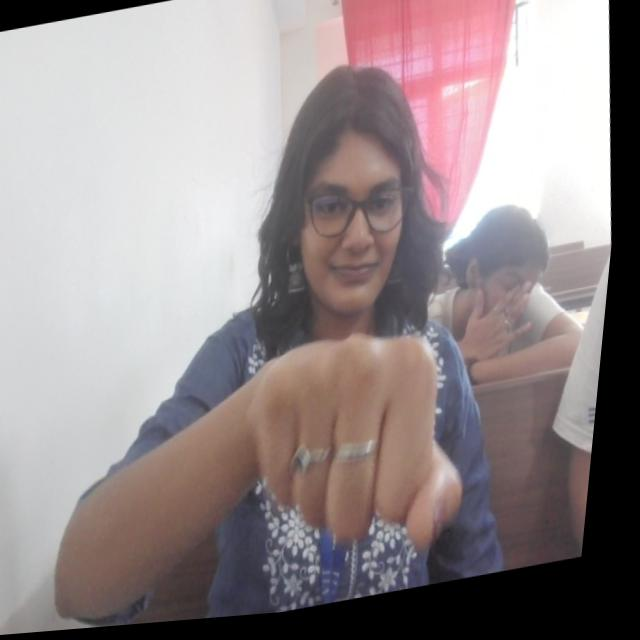yes: (231, 317, 495, 591)
